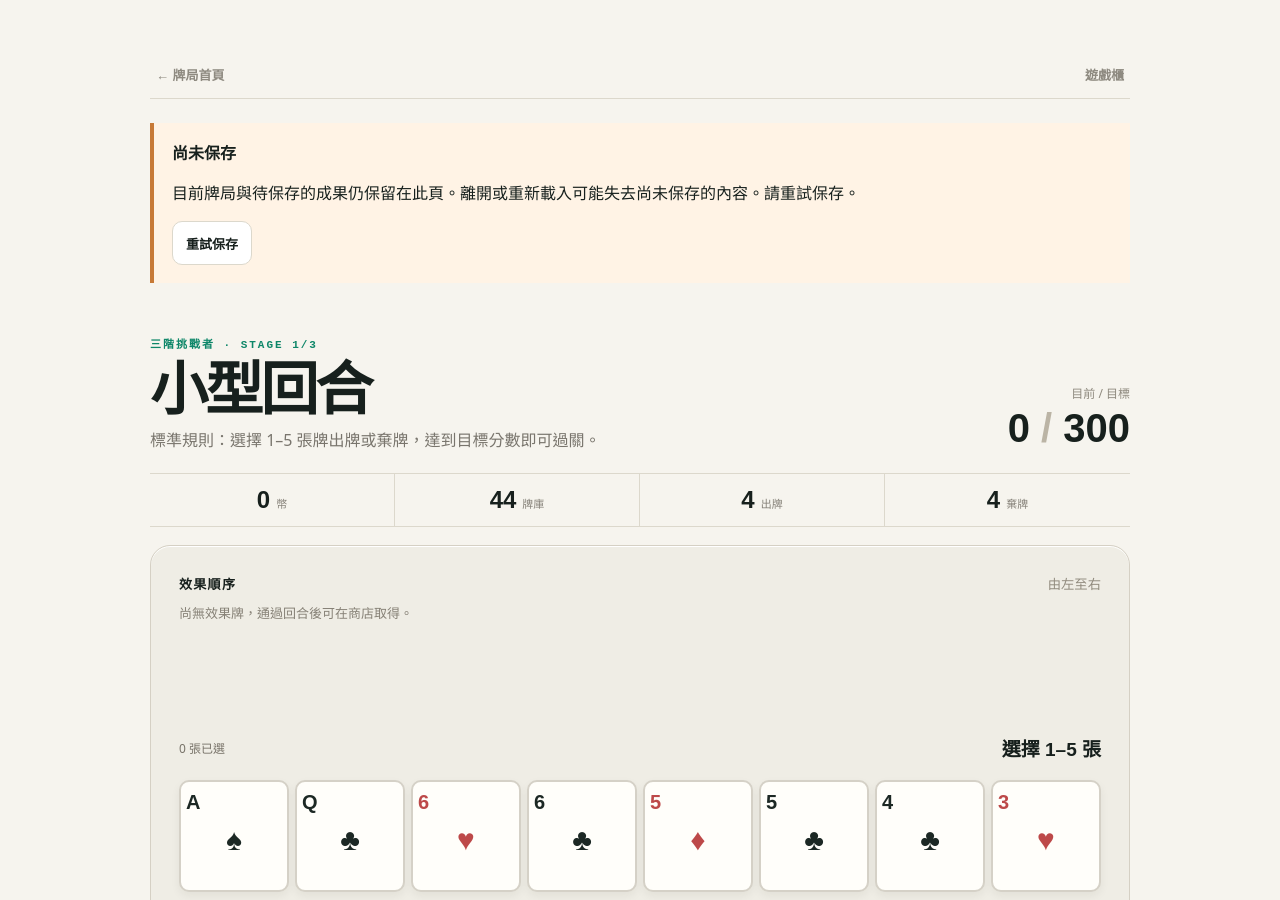
Test: poker save recovery › keeps unsaved inputs when leaving is cancelled
This screenshot has width=1280, height=900.
Click the button "A ♠".
click(234, 836)  # box [179,780,289,892]
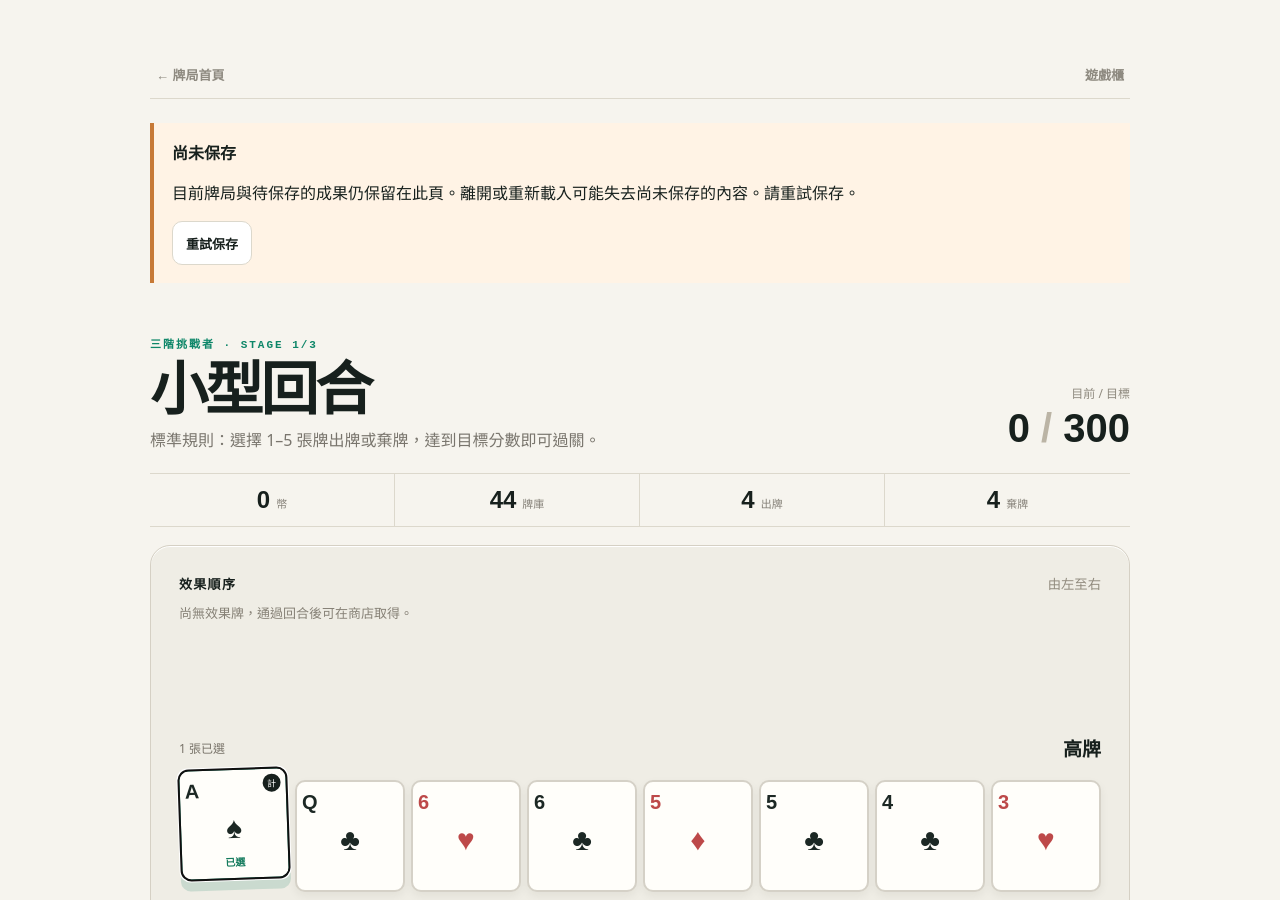
Click the button "← 牌局首頁".
click(190, 75)  # box [150,53,231,97]
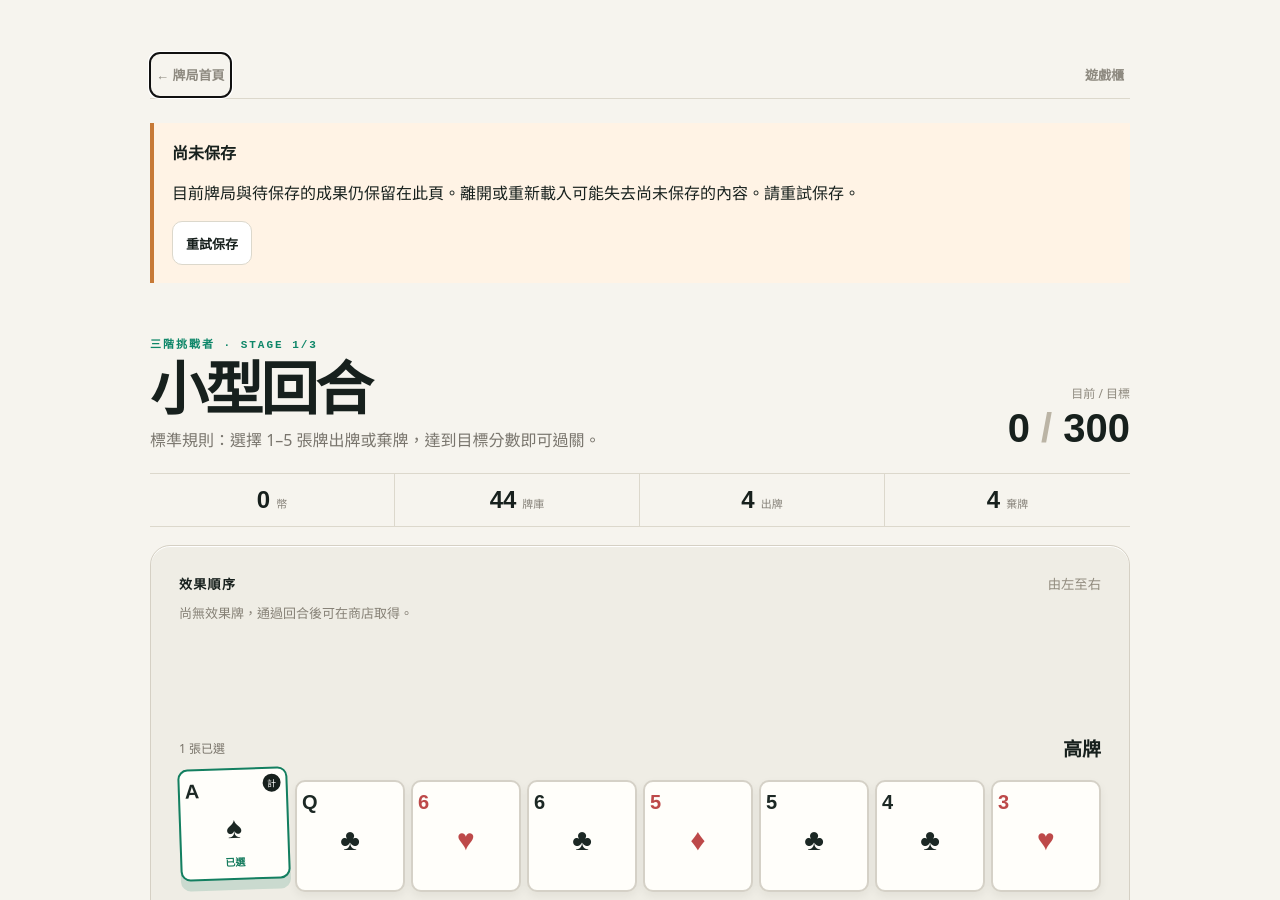
Now the button "A ♠ 已選" is pressed, box [177,766,291,882]
Click the button "← 牌局首頁".
click(190, 75)  # box [150,53,231,97]
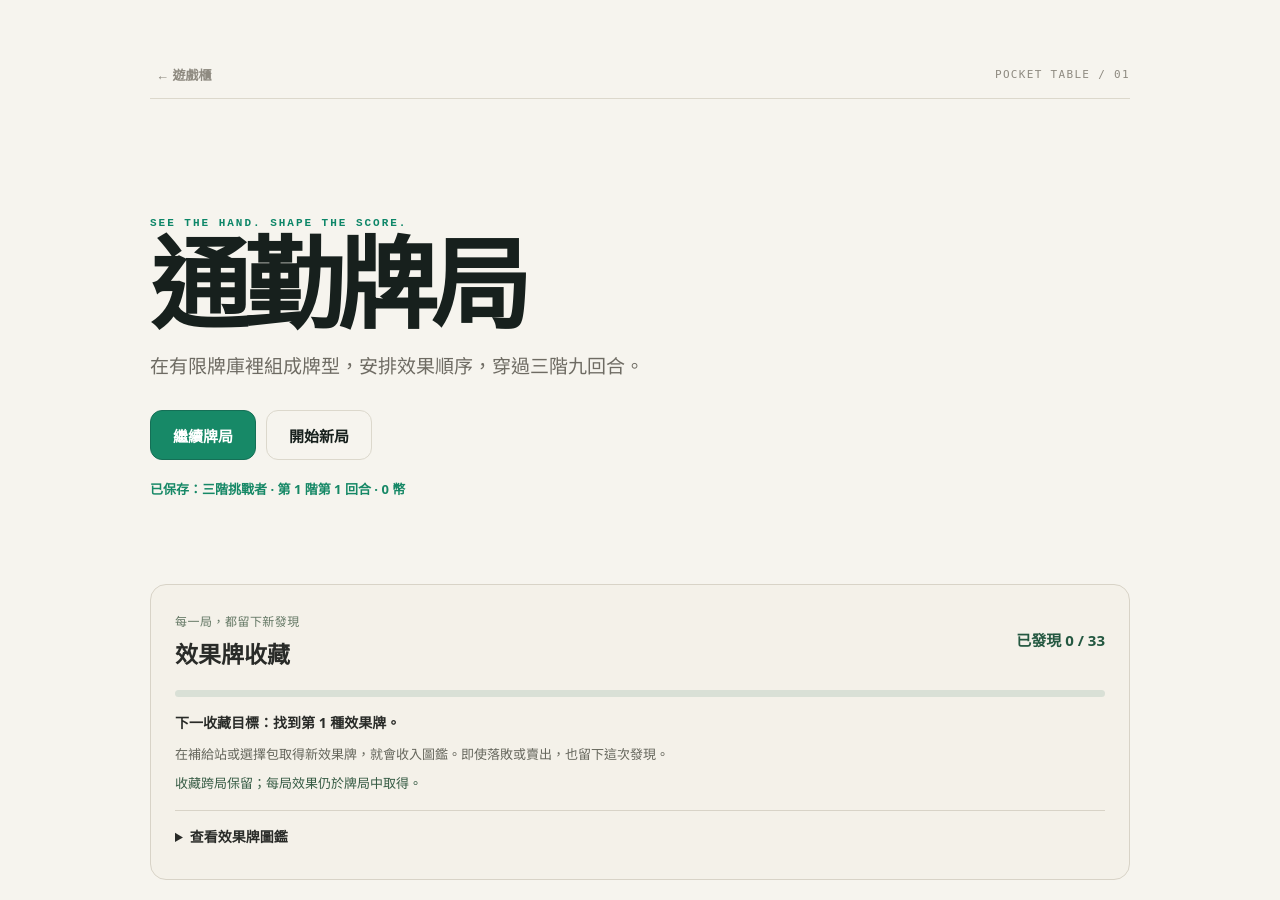
Now the heading "通勤牌局" is shown, box [150,230,524,342]
